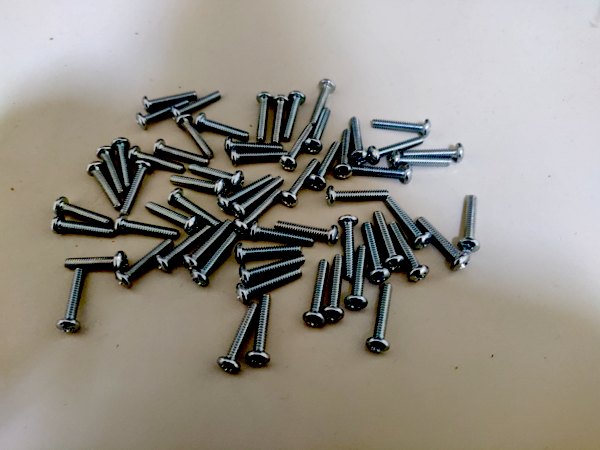longscrew: (215, 301, 255, 376), (415, 215, 470, 269), (367, 281, 403, 356), (156, 223, 208, 271), (117, 240, 168, 288), (193, 233, 237, 286), (185, 218, 229, 271), (236, 270, 304, 303), (216, 172, 273, 208), (50, 193, 112, 226), (385, 198, 427, 246), (392, 222, 427, 279), (239, 190, 283, 231), (57, 267, 82, 337), (141, 79, 199, 109), (112, 214, 178, 240), (133, 100, 190, 130), (240, 255, 303, 282), (235, 178, 282, 214), (305, 75, 338, 126), (281, 160, 318, 205), (171, 191, 221, 224), (123, 159, 153, 214), (281, 120, 314, 170), (177, 114, 212, 158), (370, 134, 423, 163), (249, 221, 310, 246), (375, 210, 401, 268), (171, 90, 223, 119), (308, 261, 329, 332), (276, 218, 337, 242), (50, 217, 113, 240), (458, 196, 481, 258), (250, 296, 270, 367), (346, 247, 367, 314), (63, 251, 126, 273), (96, 143, 123, 194), (235, 239, 301, 259), (156, 141, 211, 165), (312, 142, 340, 189), (366, 224, 387, 285), (305, 109, 334, 153), (321, 187, 388, 206), (147, 205, 200, 229), (281, 90, 306, 140), (268, 93, 293, 143), (253, 90, 278, 140), (130, 146, 184, 169), (340, 215, 360, 277), (194, 114, 249, 135), (354, 165, 420, 182), (90, 164, 115, 208), (183, 164, 244, 182), (165, 175, 225, 193), (369, 118, 428, 136), (403, 142, 468, 158), (333, 129, 353, 180), (327, 255, 341, 324), (387, 156, 451, 170), (229, 151, 288, 166), (224, 139, 282, 154), (113, 138, 129, 189), (349, 116, 366, 163)
